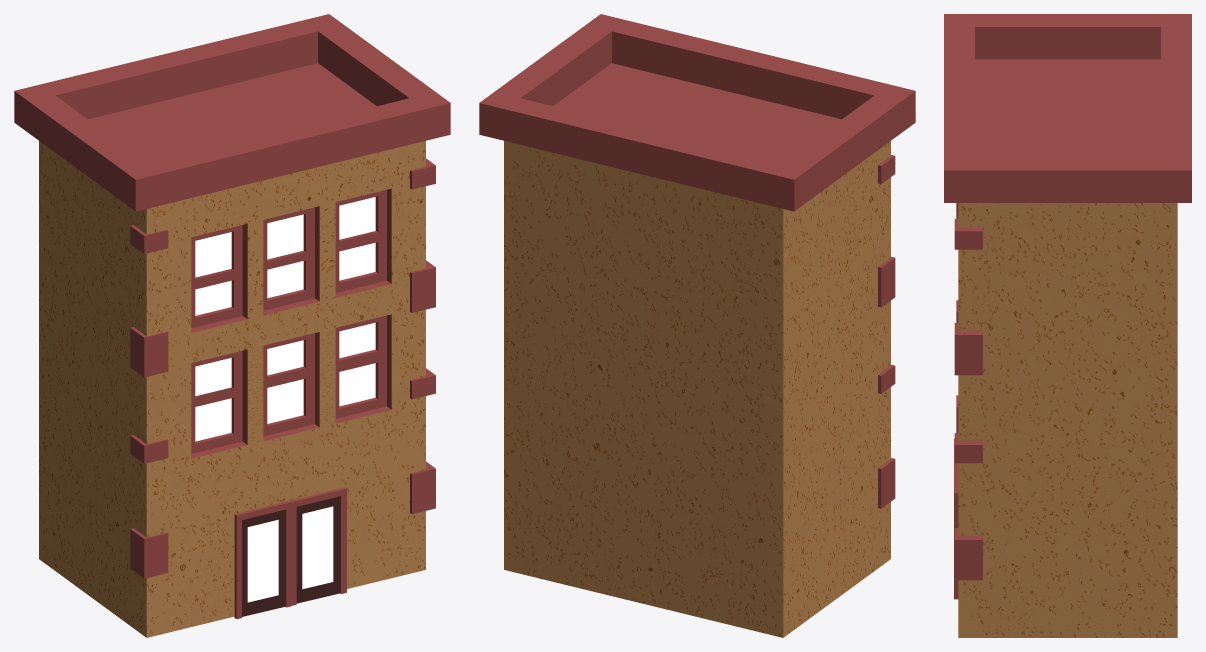
File: Cake building.fbx
The picture shows the model from 3 angles, left to right: view 1: azimuth 30°, elevation 25°; view 2: azimuth 150°, elevation 25°; view 3: azimuth 270°, elevation 25°; orthographic projection.
Parts seen in each view (by area): view 1: Cake building; view 2: Cake building; view 3: Cake building.
Part boxes in pixels (x1=…): Cake building: x1=14, y1=14, x2=450, y2=637; Cake building: x1=479, y1=14, x2=915, y2=637; Cake building: x1=944, y1=14, x2=1191, y2=637.
Bounding box in the file's own units: 1311 × 1865 × 876.
4 materials, 1 textured.
